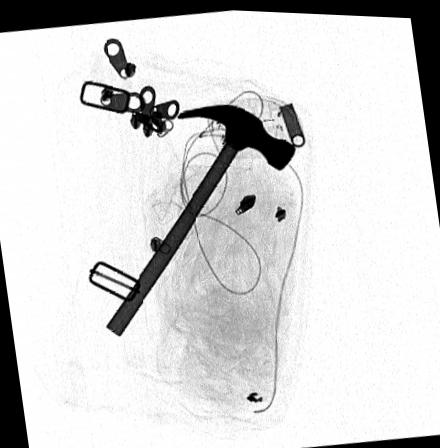Hammer: (105, 103, 296, 338)
